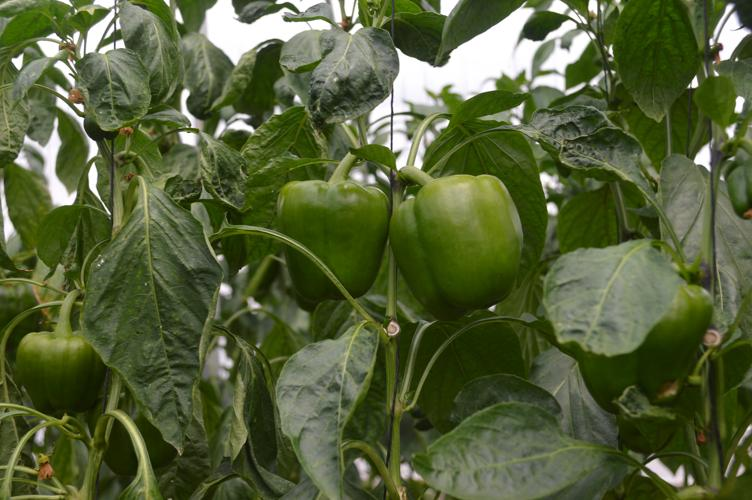BellPepper: (387, 176, 523, 311), (563, 286, 710, 400), (275, 179, 388, 301), (19, 334, 104, 410)
